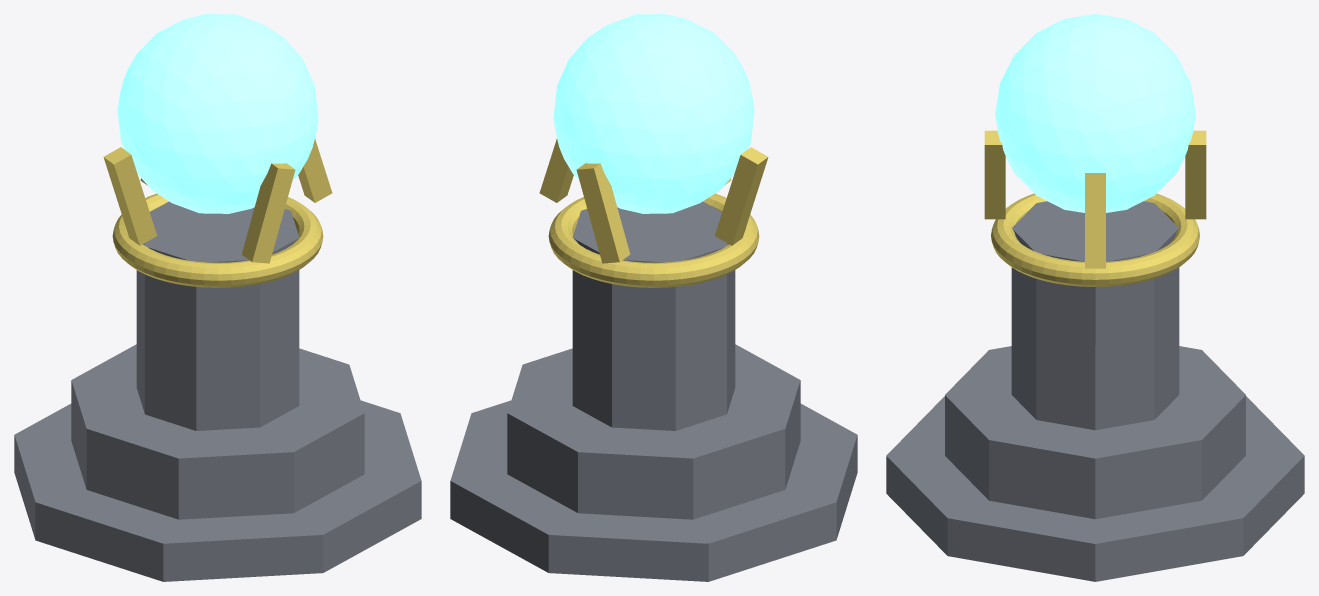
Rendered from Orbe_Magico_Pedestal.fbx.
3 renders of one model, left to right at view 1: azimuth 30°, elevation 25°; view 2: azimuth 150°, elevation 25°; view 3: azimuth 270°, elevation 25°, orthographic.
Parts seen in each view (by area): view 1: Pedestal_Base, Pedestal_Mid, Mana_Orb, Pedestal_Shaft, Rune_Collar, Claw_4, Claw_3, Claw_1; view 2: Pedestal_Base, Pedestal_Mid, Mana_Orb, Pedestal_Shaft, Rune_Collar, Claw_2, Claw_3, Claw_1; view 3: Pedestal_Base, Pedestal_Mid, Mana_Orb, Pedestal_Shaft, Rune_Collar, Claw_1, Claw_2, Claw_4.
Boxes of the visible parts, box(x1,y1,x2,y2) form: Pedestal_Base: box(14, 400, 421, 581); Pedestal_Mid: box(71, 344, 364, 519); Mana_Orb: box(117, 14, 318, 213); Pedestal_Shaft: box(136, 201, 299, 430); Rune_Collar: box(112, 193, 323, 287); Claw_4: box(241, 163, 295, 263); Claw_3: box(103, 147, 156, 245); Claw_1: box(298, 139, 332, 202); Pedestal_Base: box(450, 400, 857, 581); Pedestal_Mid: box(507, 344, 800, 519); Mana_Orb: box(553, 14, 754, 213); Pedestal_Shaft: box(572, 201, 735, 430); Rune_Collar: box(548, 193, 759, 287); Claw_2: box(576, 163, 630, 263); Claw_3: box(715, 147, 768, 245); Claw_1: box(539, 139, 573, 202); Pedestal_Base: box(886, 396, 1304, 581); Pedestal_Mid: box(945, 346, 1245, 519); Mana_Orb: box(995, 14, 1195, 212); Pedestal_Shaft: box(1011, 201, 1179, 430); Rune_Collar: box(991, 193, 1199, 286); Claw_1: box(1085, 173, 1105, 268); Claw_2: box(1185, 130, 1206, 219); Claw_4: box(984, 130, 1005, 219).
Bounding box in the file's own units: 500 × 620 × 500.
